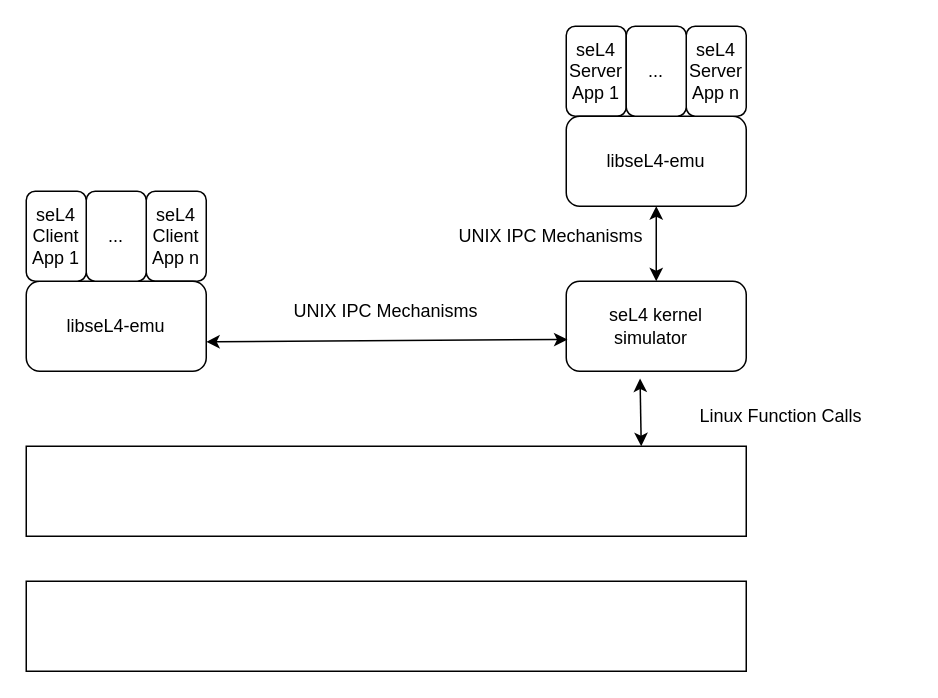
The diagram is 938 pixels wide and 698 high, and some of its shapes have lost their labels. The centre of each missing label's shape, as x and y in pixels:
Hardware: the point at 385,625
Linux: the point at 385,490
